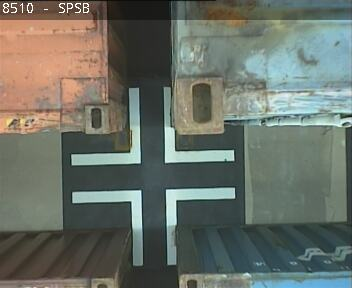groundmarker_1: (71, 86, 235, 167), (71, 186, 236, 265)
